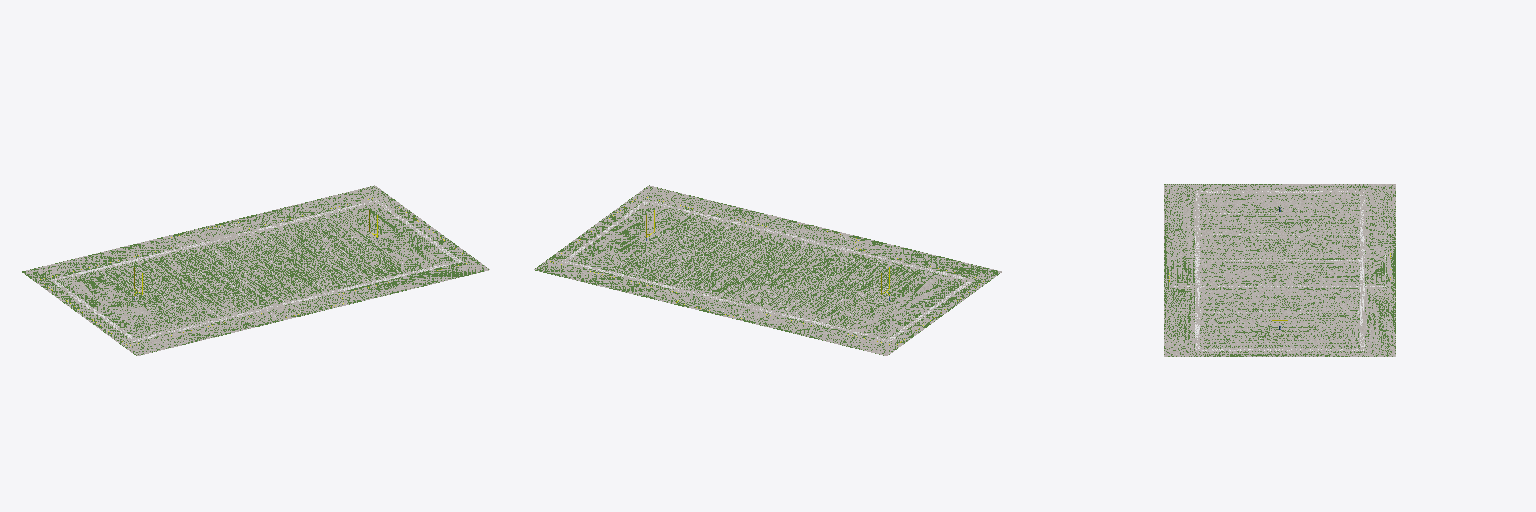
3 views of the same model, side by side, from view 1: azimuth 30°, elevation 25°; view 2: azimuth 150°, elevation 25°; view 3: azimuth 270°, elevation 25° (orthographic).
Visible parts, largest first — view 1: Mesh1 Model; view 2: Mesh1 Model; view 3: Mesh1 Model.
Boxes of the visible parts, box(x1,y1,x2,y2) form: Mesh1 Model: box(22, 185, 489, 355); Mesh1 Model: box(534, 185, 1001, 355); Mesh1 Model: box(1164, 184, 1395, 356).
Size of the model in its own units: 5976 by 480 by 3384.
Materials: 6 (3 with a texture image).